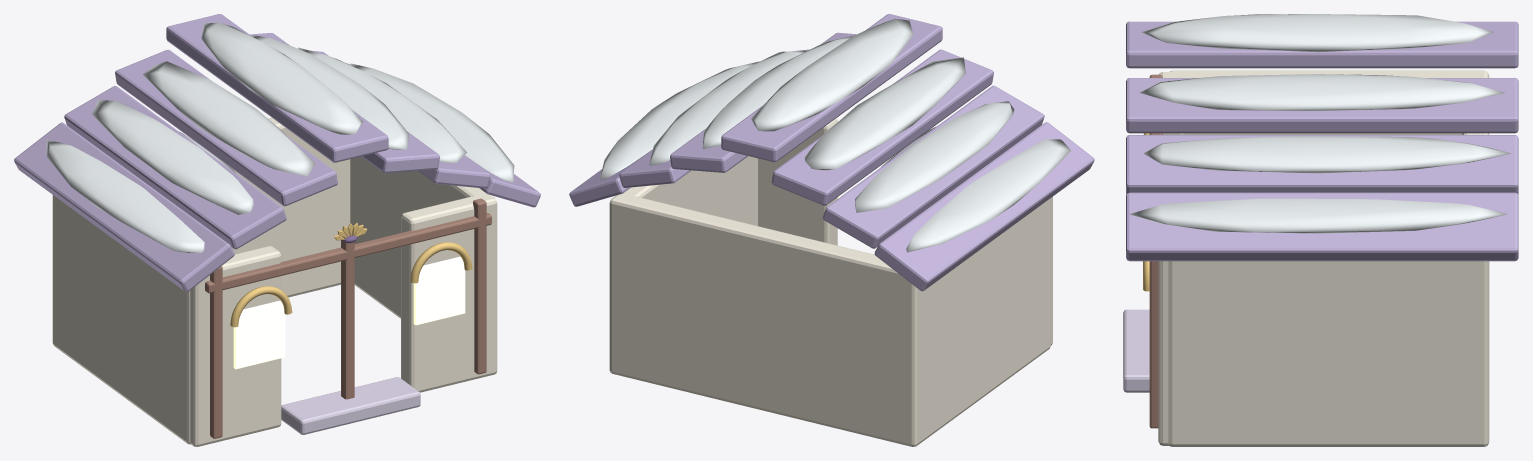
Rendered from lagoon_alpine_chalet_b.glb.
3 views of the same model, side by side, from view 1: azimuth 30°, elevation 25°; view 2: azimuth 150°, elevation 25°; view 3: azimuth 270°, elevation 25° (orthographic). The views are drawn at different scales.
Parts seen in each view (by area): view 1: lagoon_alpine_chalet_b.001; view 2: lagoon_alpine_chalet_b.001; view 3: lagoon_alpine_chalet_b.001.
Boxes of the visible parts, x1=… form: lagoon_alpine_chalet_b.001: x1=14, y1=14, x2=540, y2=446; lagoon_alpine_chalet_b.001: x1=569, y1=14, x2=1094, y2=446; lagoon_alpine_chalet_b.001: x1=1123, y1=14, x2=1518, y2=446.
Size of the model in its own units: 18.38 by 13.87 by 14.7.
